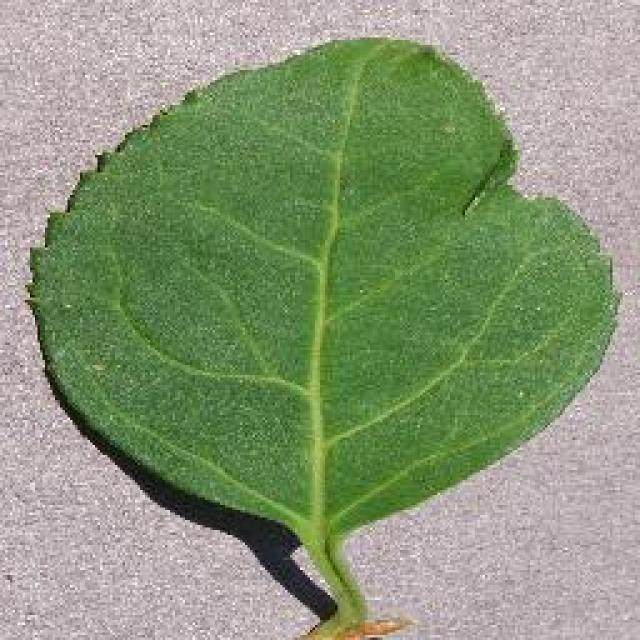Cherry___healthy: (8, 20, 628, 640)
